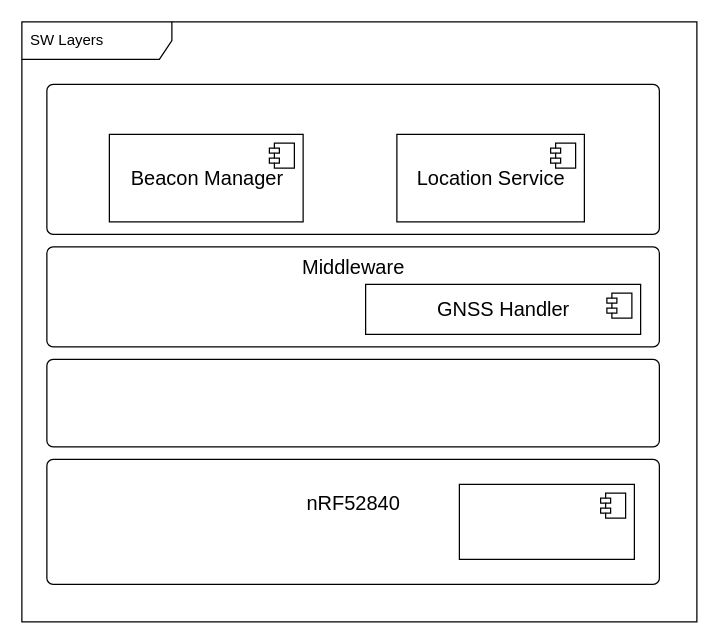
Image size: 719x644. Some labels were removed from this diagram. Here are the shapes that lost their labels. From the top down, the box of each, then its label:
(46, 83, 659, 234): Application Layer
(46, 358, 659, 447): nRF SDK 17.1.0
(458, 483, 634, 559): S140 SoftDevice
